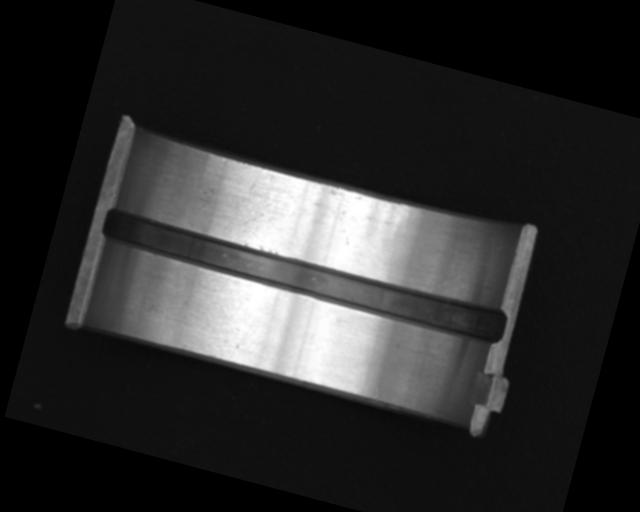gap: (97, 201, 512, 349)
